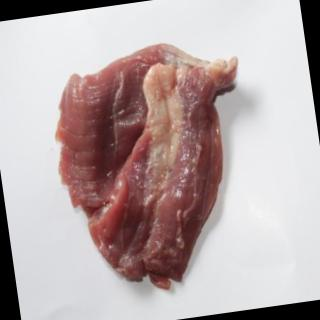Daging Sapi: (49, 35, 270, 301)
